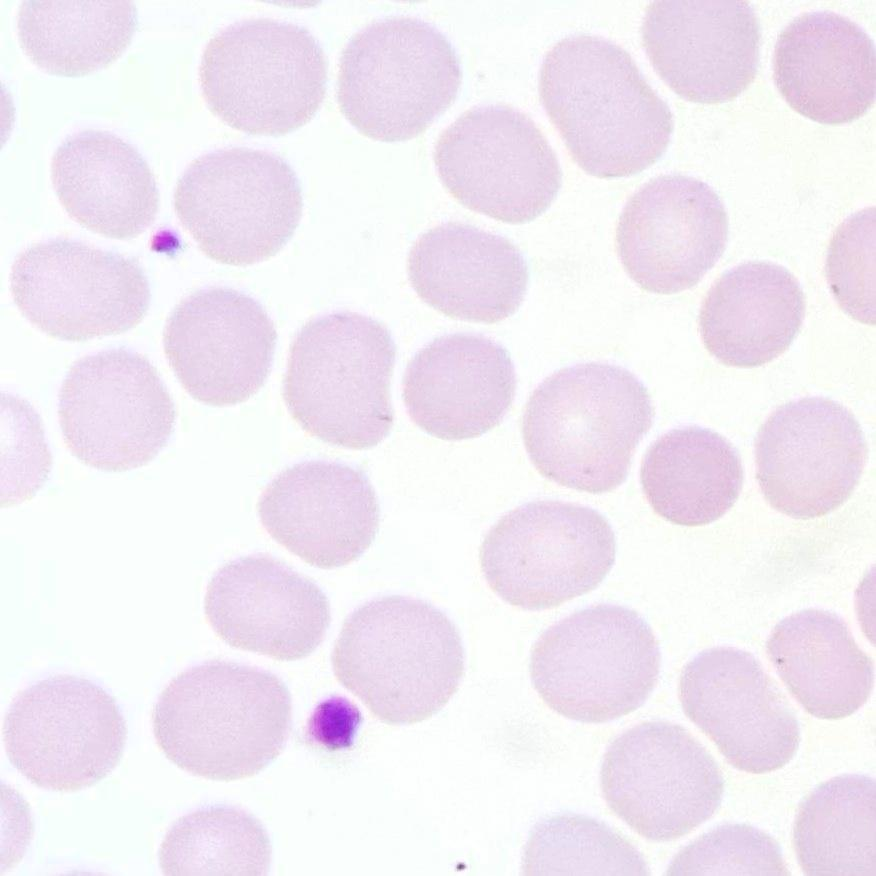Uninfected: (535, 32, 673, 179), (521, 362, 653, 490), (152, 661, 293, 780), (333, 17, 461, 145), (332, 596, 462, 720), (282, 311, 401, 446), (433, 102, 562, 223), (198, 15, 328, 133), (527, 604, 658, 721), (680, 645, 799, 770), (11, 236, 152, 341), (479, 501, 614, 610), (174, 148, 301, 263), (162, 285, 281, 407), (597, 722, 718, 840), (57, 349, 174, 470), (3, 674, 124, 789), (257, 460, 378, 573), (752, 396, 862, 519), (202, 556, 328, 663), (399, 333, 516, 441), (617, 177, 726, 291), (642, 0, 759, 102), (50, 125, 161, 232), (408, 223, 527, 322), (765, 610, 869, 721), (697, 261, 804, 368), (773, 12, 876, 122), (640, 428, 741, 528), (13, 0, 138, 79), (160, 804, 270, 874), (794, 777, 871, 872)
